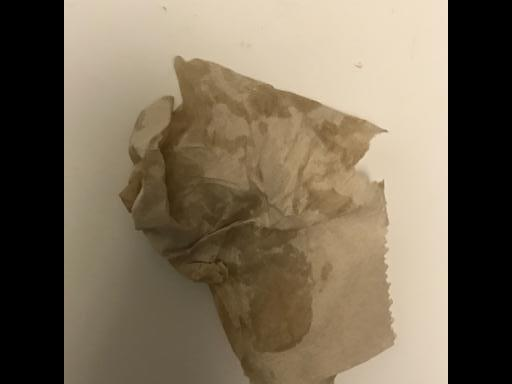trash: (118, 54, 392, 383)
